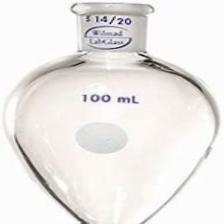Pear shaped flask: (4, 21, 222, 218)
